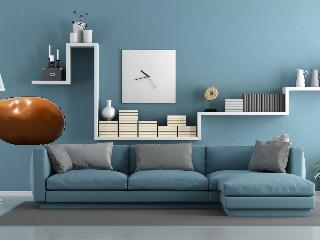potato: (0, 97, 65, 145)
